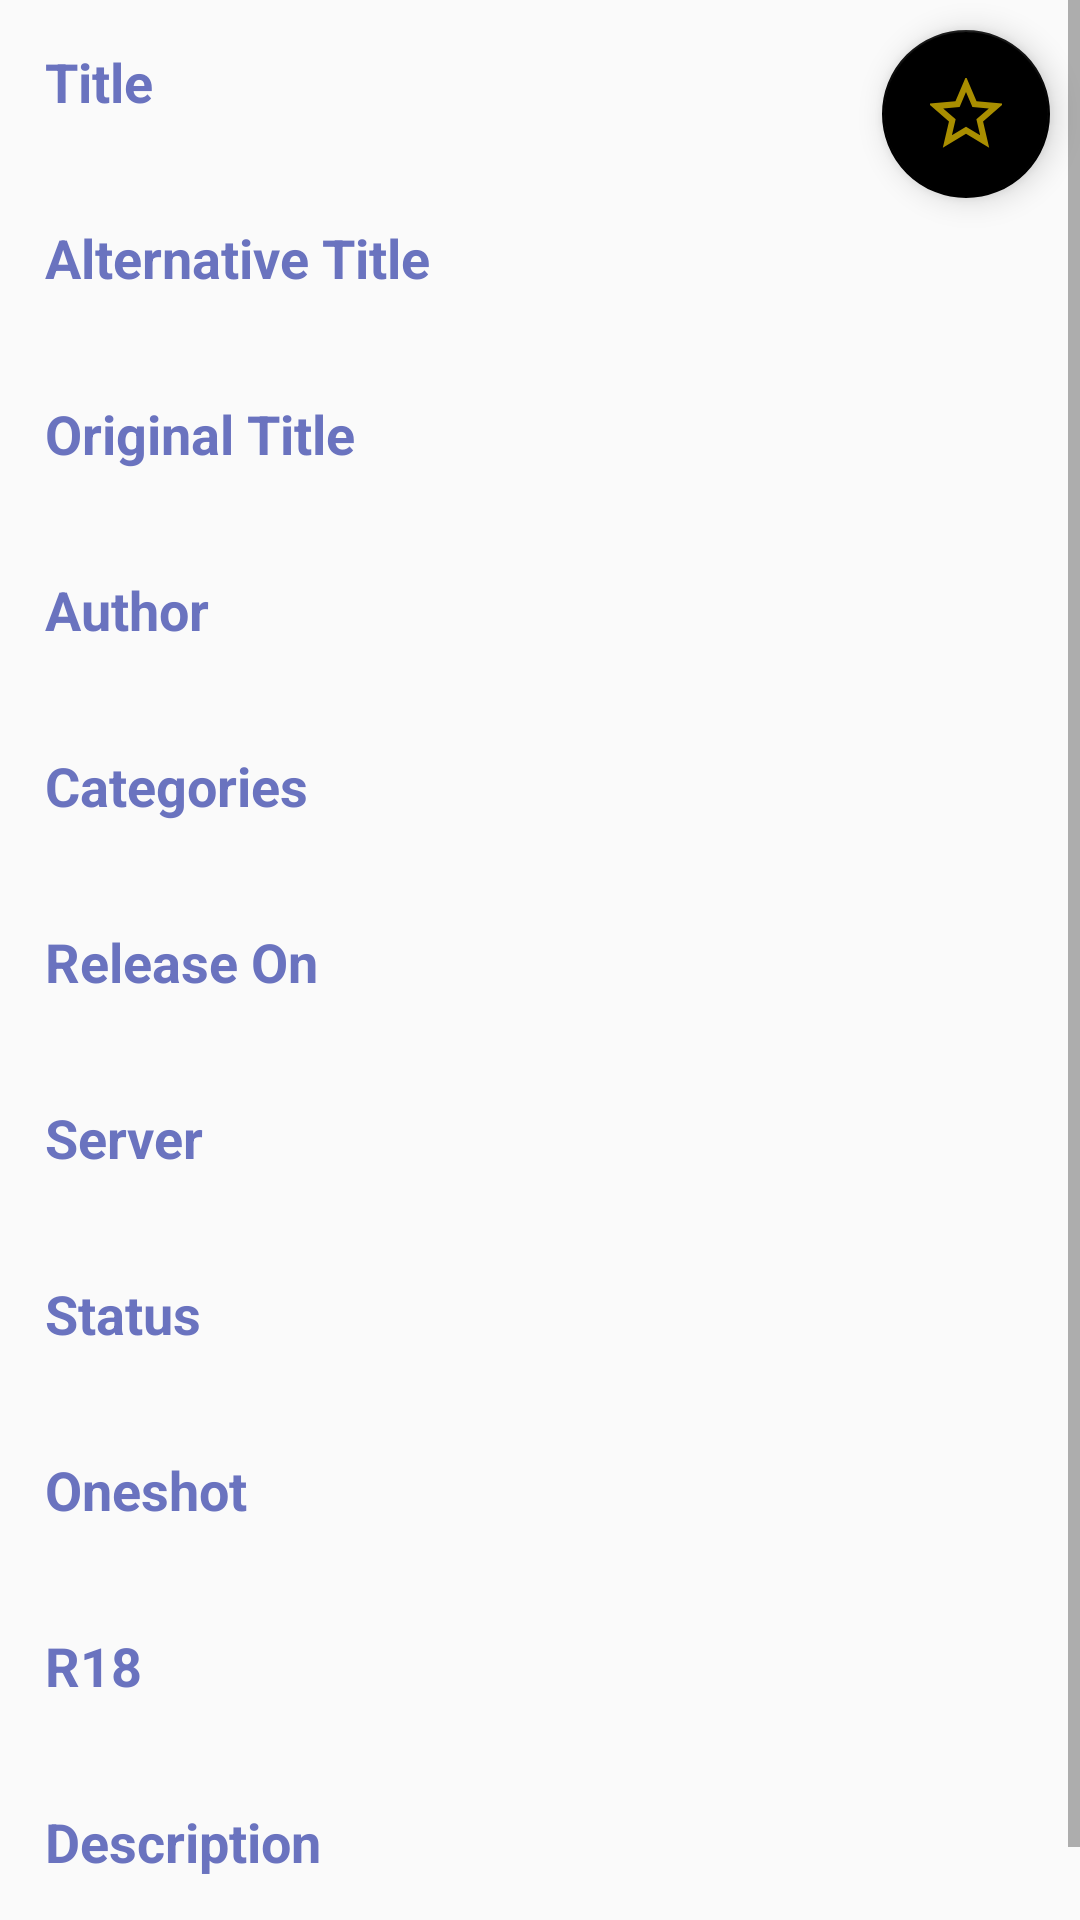

Icon bounding boxes for this 1080w x 1920h phone screenshot, format rect(x1, y1, x2, y2):
favorite unchecked: rect(882, 30, 1050, 198)
